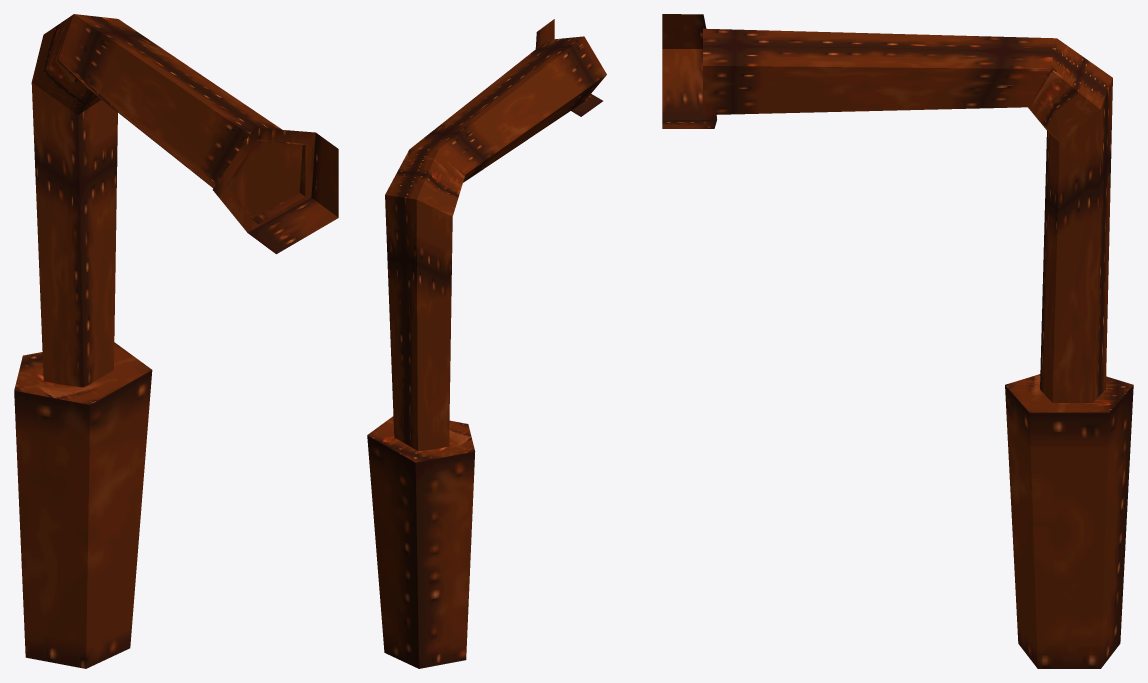
The model's file is Rohr_Knie [Rostig]_1519.glb.
The picture shows the model from 3 angles, left to right: view 1: azimuth 30°, elevation 25°; view 2: azimuth 150°, elevation 25°; view 3: azimuth 270°, elevation 25°; orthographic projection. The views are drawn at different scales.
Parts seen in each view (by area): view 1: pCylinderShape2, pCylinderShape3, pCylinderShape1; view 2: pCylinderShape2, pCylinderShape3, pCylinderShape1; view 3: pCylinderShape2, pCylinderShape3, pCylinderShape1.
Boxes of the visible parts, x1,y1,x2,y2 form: pCylinderShape2: (31, 14, 305, 387); pCylinderShape3: (14, 342, 152, 668); pCylinderShape1: (212, 127, 338, 254); pCylinderShape2: (385, 36, 606, 450); pCylinderShape3: (367, 416, 475, 668); pCylinderShape1: (535, 19, 602, 116); pCylinderShape2: (703, 28, 1112, 402); pCylinderShape3: (1005, 374, 1133, 668); pCylinderShape1: (662, 14, 716, 128).
Size of the model in its own units: 0.4524 by 2.44 by 1.65.
Materials: 3 (3 with a texture image).
